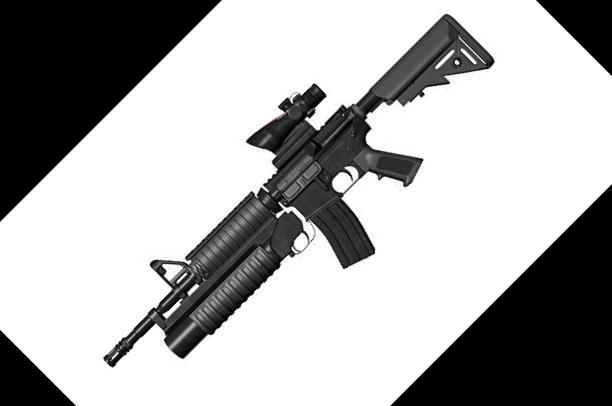larga: (102, 12, 495, 368)
